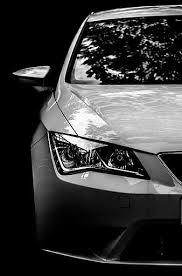Headlight-Damage: (28, 128, 153, 196)
